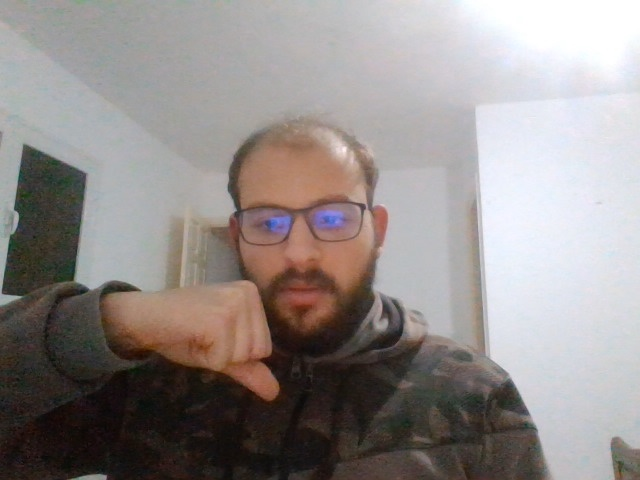Yes: (179, 280, 279, 400)
